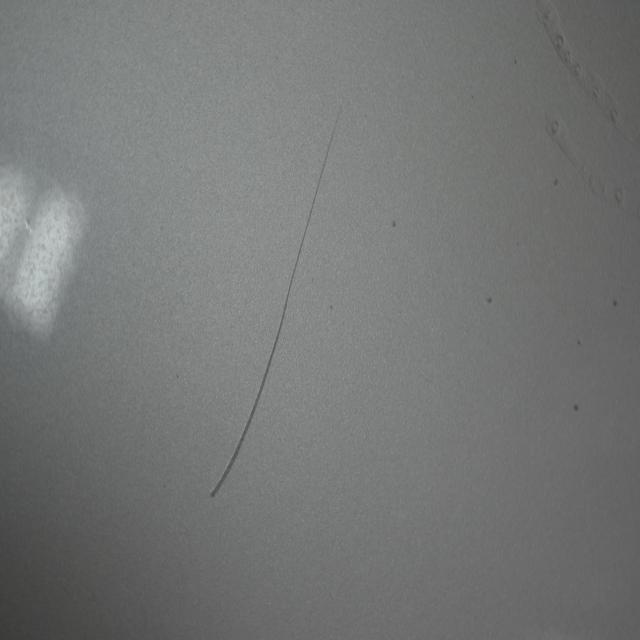dirt: (483, 290, 495, 308), (571, 395, 581, 414), (610, 291, 620, 309), (551, 171, 559, 189), (574, 332, 581, 348), (391, 215, 397, 229)
runs: (540, 2, 640, 218)
scratch: (208, 97, 346, 508)
